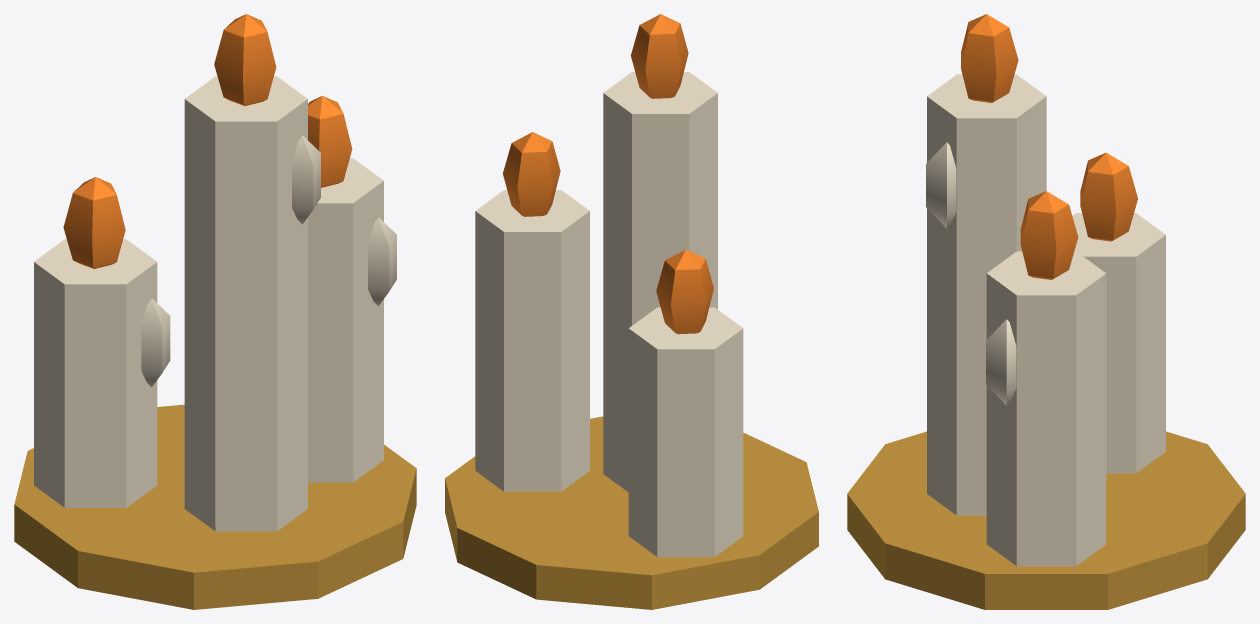
Rendered from PR_Decor_Mum.fbx.
3 views of the same model, side by side, from view 1: azimuth 30°, elevation 25°; view 2: azimuth 150°, elevation 25°; view 3: azimuth 270°, elevation 25° (orthographic). The views are drawn at different scales.
Parts seen in each view (by area): view 1: PR_Decor_Mum; view 2: PR_Decor_Mum; view 3: PR_Decor_Mum.
Boxes of the visible parts, x1,y1,x2,y2 form: PR_Decor_Mum: (14, 14, 416, 609); PR_Decor_Mum: (445, 14, 818, 609); PR_Decor_Mum: (847, 14, 1245, 609).
Size of the model in its own units: 0.1902 by 0.2856 by 0.2.
1 material, 1 textured.
